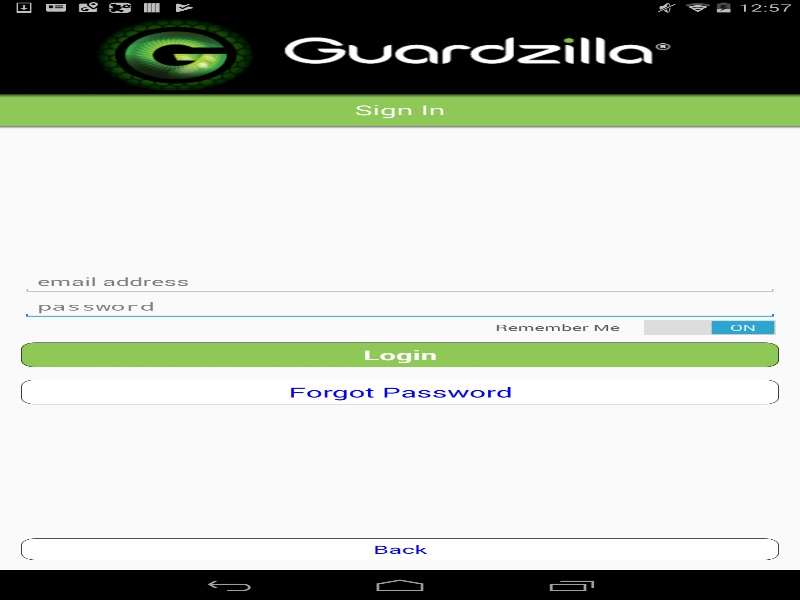Input: (21, 269, 778, 294), (21, 294, 778, 318)
